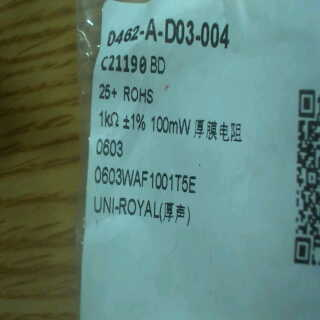1kR: (94, 108, 121, 131)
